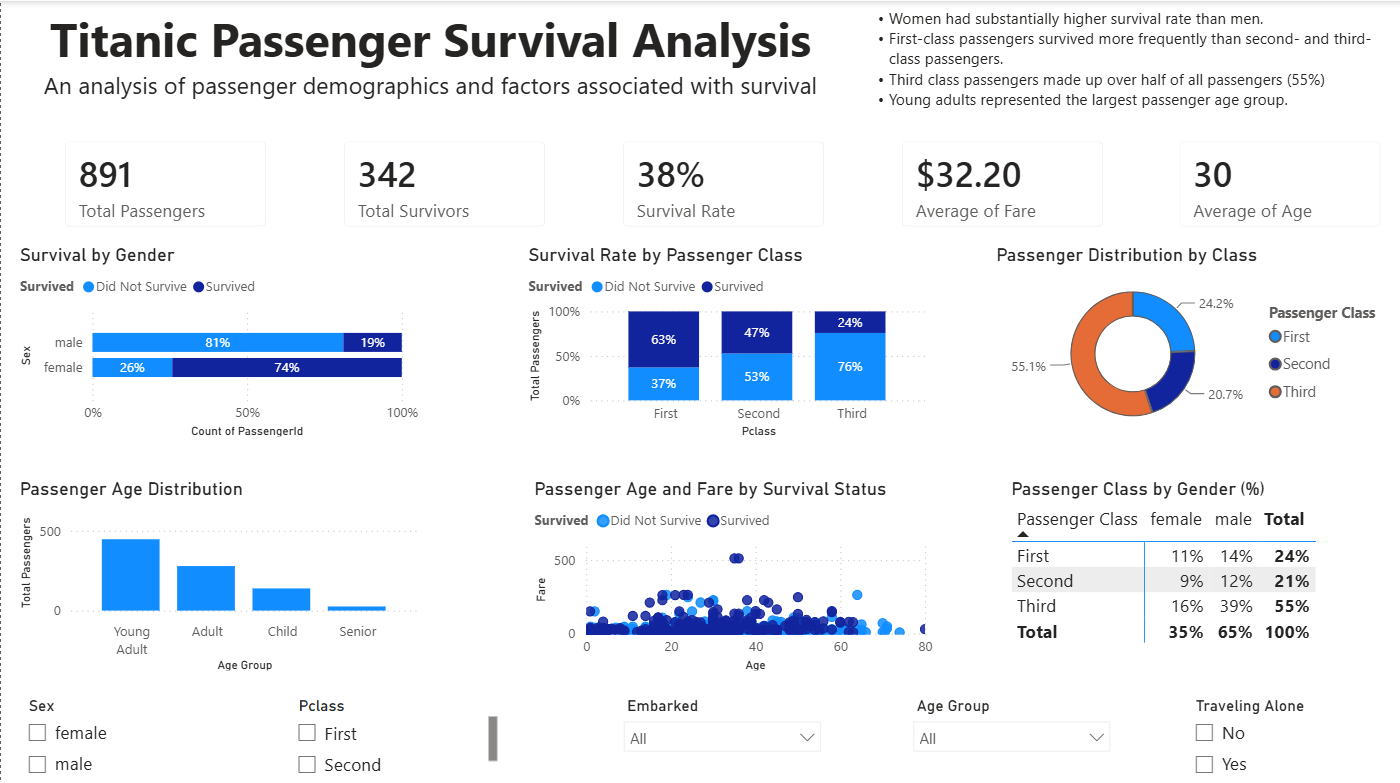

What the dashboard file says about the page in this screenshot:
{"tool":"powerbi","page":{"name":"Page 1","canvas":[1280,720],"ordinal":0},"visuals":[{"type":"cardVisual","fields":{"Data":["train.Total Passengers"]},"box":[40.9,110.5,218,112],"z":0},{"type":"cardVisual","fields":{"Data":["train.Total Survivors"]},"box":[296,110.5,218,112],"z":1000},{"type":"cardVisual","fields":{"Data":["train.Survival Rate"]},"box":[551.2,110.5,218,112],"z":2000},{"type":"textbox","box":[0,0,785.9,110.5],"z":3000},{"type":"cardVisual","fields":{"Data":["Avg(train.Fare)"]},"box":[806.3,110.5,218,112.1],"z":4000},{"type":"cardVisual","fields":{"Data":["Avg(train.Age)"]},"box":[1061.5,110.5,218,112],"z":5000},{"type":"hundredPercentStackedBarChart","title":"Survival by Gender","fields":{"Category":["train.Sex"],"Series":["train.Survived"],"Y":["CountNonNull(train.PassengerId)"]},"box":[12.1,222.6,374,181],"z":6000},{"type":"hundredPercentStackedColumnChart","title":"Survival Rate by Passenger Class","fields":{"Category":["train.Pclass"],"Series":["train.Survived"],"Y":["train.Total Passengers"]},"box":[477,222.6,374,181.7],"z":7000},{"type":"donutChart","title":"Passenger Distribution by Class","fields":{"Category":["train.Passenger Class Name"],"Y":["CountNonNull(train.PassengerId)"]},"box":[905.5,222.6,374,181],"z":8000},{"type":"clusteredColumnChart","title":"Passenger Age Distribution","fields":{"Category":["train.Age Group"],"Y":["train.Total Passengers"]},"box":[12.1,436.1,374,181],"z":9000},{"type":"scatterChart","title":"Passenger Age and Fare by Survival Status","fields":{"Y":["train.Fare"],"Series":["train.Survived"],"X":["train.Age"]},"box":[483,436.1,374,181],"z":10000},{"type":"pivotTable","title":"Passenger Class by Gender (%)","fields":{"Rows":["train.Passenger Class Name"],"Columns":["train.Sex"],"Values":["Min(train.Survived)"]},"box":[919.1,436.1,361,181],"z":11000},{"type":"slicer","fields":{"Values":["train.Sex"]},"box":[12.1,631.4,200,87.8],"z":12000},{"type":"slicer","fields":{"Values":["train.Pclass"]},"box":[258.9,631.4,199.9,87.8],"z":13000},{"type":"slicer","fields":{"Values":["train.Embarked"]},"box":[560.3,631.4,199.9,87.8],"z":14000},{"type":"slicer","fields":{"Values":["train.Age Group"]},"box":[825.2,631.4,199.9,87.8],"z":15000},{"type":"slicer","fields":{"Values":["train.Traveling Alone"]},"box":[1079.6,631.4,199.9,87.8],"z":16000},{"type":"textbox","box":[785.9,0,493.6,110.5],"z":17000}]}

Visuals, with their boxes in screenshot pixels (x1, y1, x2, y2), scaled from the page's 1280x720 canvas onto the 1400x783 screenshot:
cardVisual - train.Total Passengers: (left=45, top=120, right=283, bottom=242)
cardVisual - train.Total Survivors: (left=324, top=120, right=562, bottom=242)
cardVisual - train.Survival Rate: (left=603, top=120, right=841, bottom=242)
textbox: (left=0, top=0, right=860, bottom=120)
cardVisual - Avg(train.Fare): (left=882, top=120, right=1120, bottom=242)
cardVisual - Avg(train.Age): (left=1161, top=120, right=1399, bottom=242)
"Survival by Gender" hundredPercentStackedBarChart: (left=13, top=242, right=422, bottom=439)
"Survival Rate by Passenger Class" hundredPercentStackedColumnChart: (left=522, top=242, right=931, bottom=440)
"Passenger Distribution by Class" donutChart: (left=990, top=242, right=1399, bottom=439)
"Passenger Age Distribution" clusteredColumnChart: (left=13, top=474, right=422, bottom=671)
"Passenger Age and Fare by Survival Status" scatterChart: (left=528, top=474, right=937, bottom=671)
"Passenger Class by Gender (%)" pivotTable: (left=1005, top=474, right=1399, bottom=671)
slicer - train.Sex: (left=13, top=687, right=232, bottom=782)
slicer - train.Pclass: (left=283, top=687, right=502, bottom=782)
slicer - train.Embarked: (left=613, top=687, right=831, bottom=782)
slicer - train.Age Group: (left=903, top=687, right=1121, bottom=782)
slicer - train.Traveling Alone: (left=1181, top=687, right=1399, bottom=782)
textbox: (left=860, top=0, right=1399, bottom=120)
